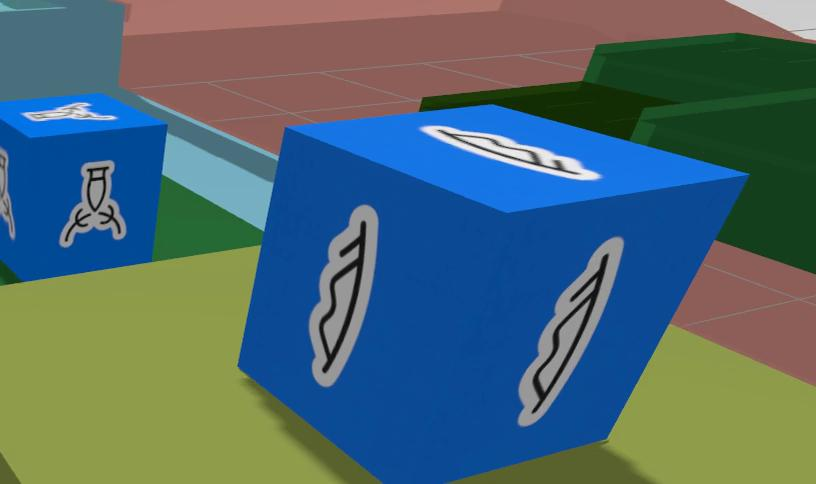KFS_REAL: (518, 237, 623, 425), (308, 205, 377, 386), (420, 125, 600, 180), (59, 161, 125, 247), (22, 101, 116, 121), (0, 147, 15, 239)
